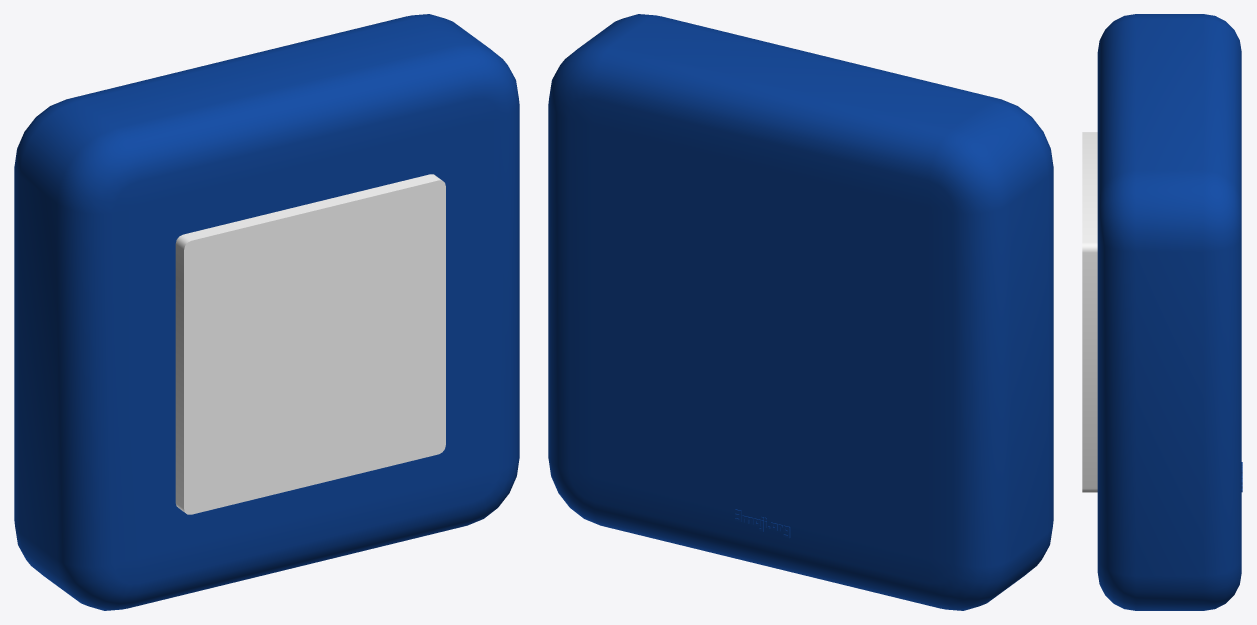
File: stop_button.glb
3 renders of one model, left to right at view 1: azimuth 30°, elevation 25°; view 2: azimuth 150°, elevation 25°; view 3: azimuth 270°, elevation 25°, orthographic. The views are drawn at different scales.
Parts seen in each view (by area): view 1: Cube.6431; view 2: Cube.6431; view 3: Cube.6431.
Boxes of the visible parts, x1,y1,x2,y2 form: Cube.6431: [14, 14, 519, 610]; Cube.6431: [548, 14, 1053, 610]; Cube.6431: [1082, 14, 1242, 610].
Bounding box in the file's own units: 2.2 × 2.2 × 0.7337.
Materials: 1 (1 with a texture image).
